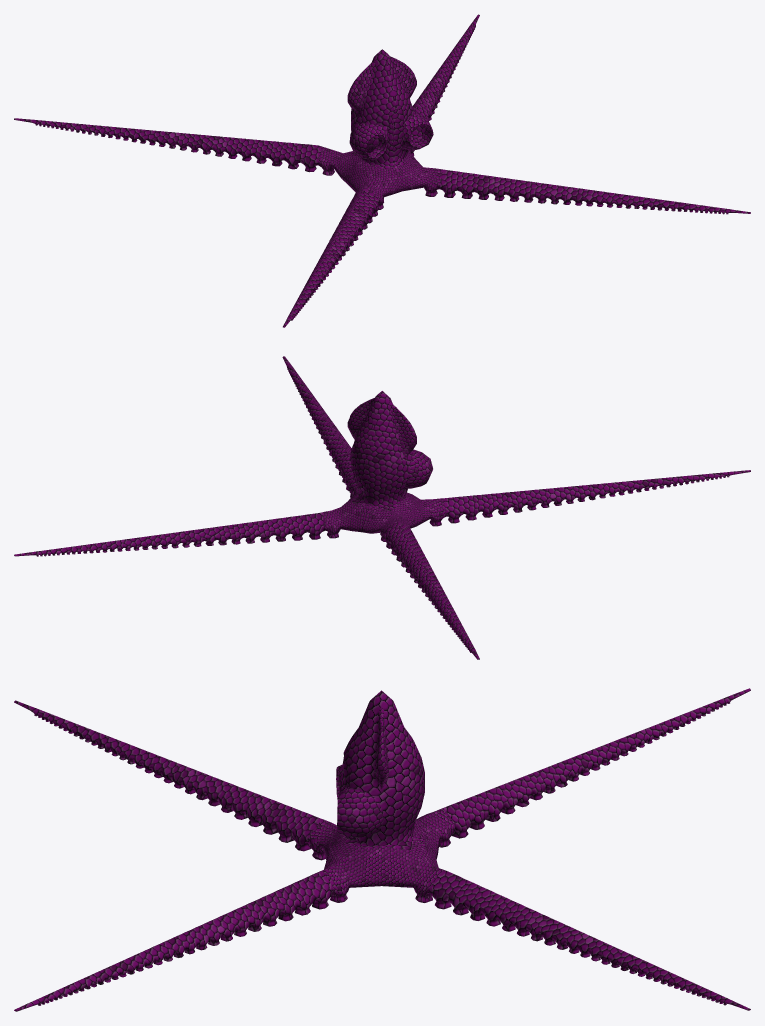
Rendered from Squid_Smoothed.obj.
3 views of the same model, one above another, from view 1: azimuth 30°, elevation 25°; view 2: azimuth 150°, elevation 25°; view 3: azimuth 270°, elevation 25° (orthographic). The views are drawn at different scales.
Visible parts, largest first — view 1: Kraken_Body_Geo Kraken_Geo Tentacle; view 2: Kraken_Body_Geo Kraken_Geo Tentacle; view 3: Kraken_Body_Geo Kraken_Geo Tentacle.
Part boxes in pixels (x1,y1,x2,y2): Kraken_Body_Geo Kraken_Geo Tentacle: (14,14,750,327); Kraken_Body_Geo Kraken_Geo Tentacle: (14,356,750,659); Kraken_Body_Geo Kraken_Geo Tentacle: (14,688,750,1011).
Size of the model in its own units: 10.18 by 2.82 by 10.23.
